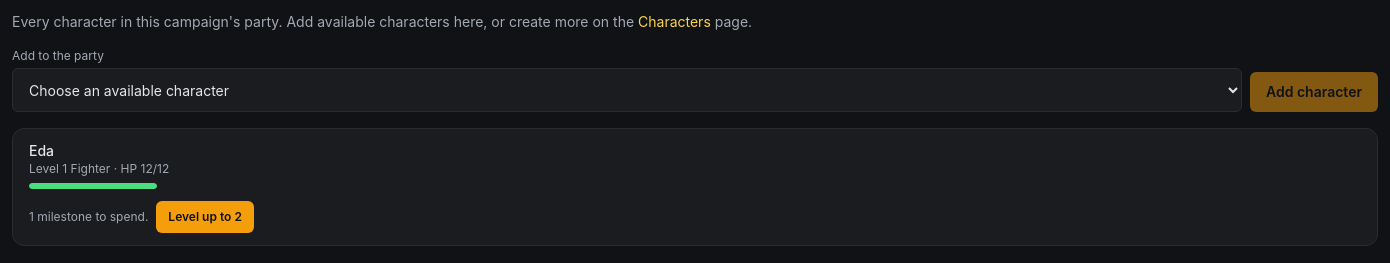
Test case: spends a milestone with the level the sheet shows and reports what was gained
Click the button "Level up to 2" at (205, 217), box [156,201,254,233]
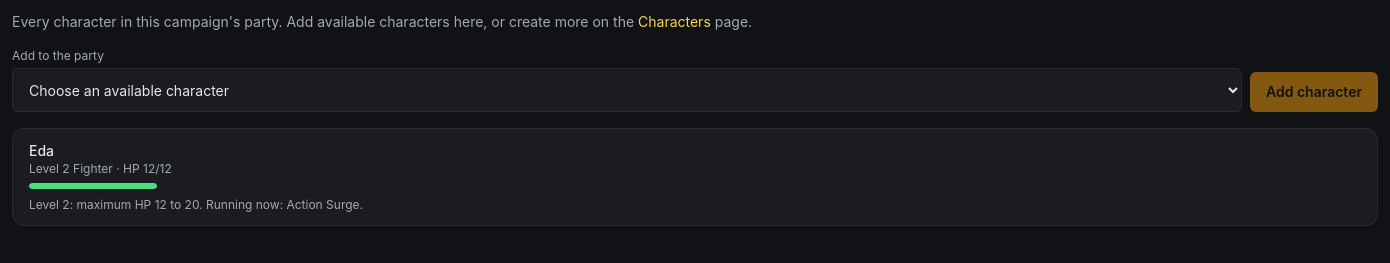
Expected: the text "maximum HP 12 to 20" is shown, [29,197,363,212]
Expected: the text "Running now: Action Surge" is shown, [29,197,363,212]
